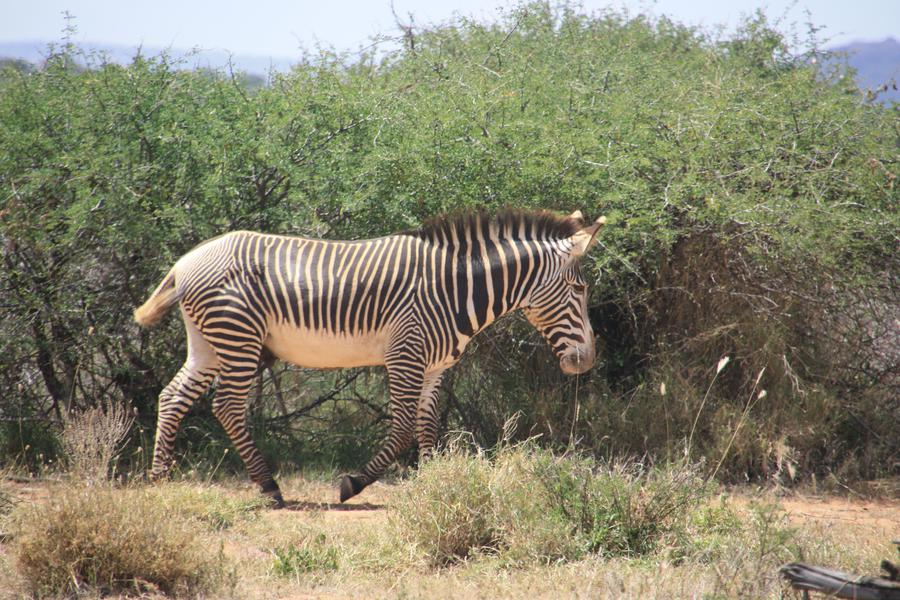zebra_grevys: (168, 219, 448, 364)
